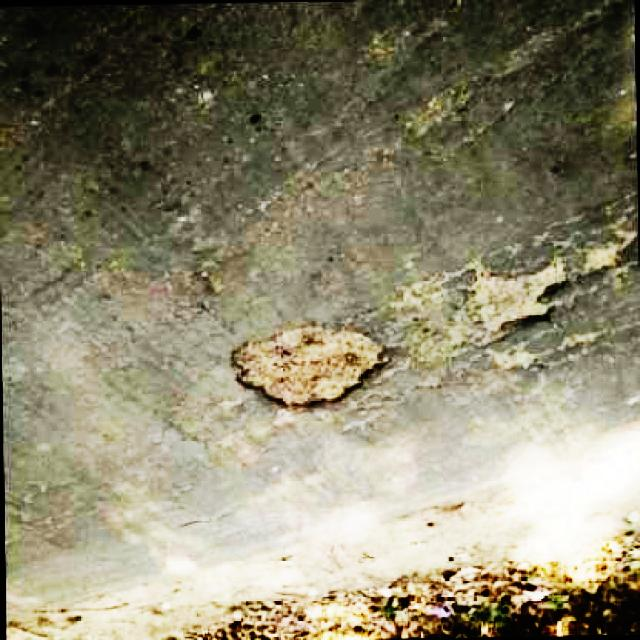pothole: (228, 321, 389, 417), (444, 255, 576, 372)
